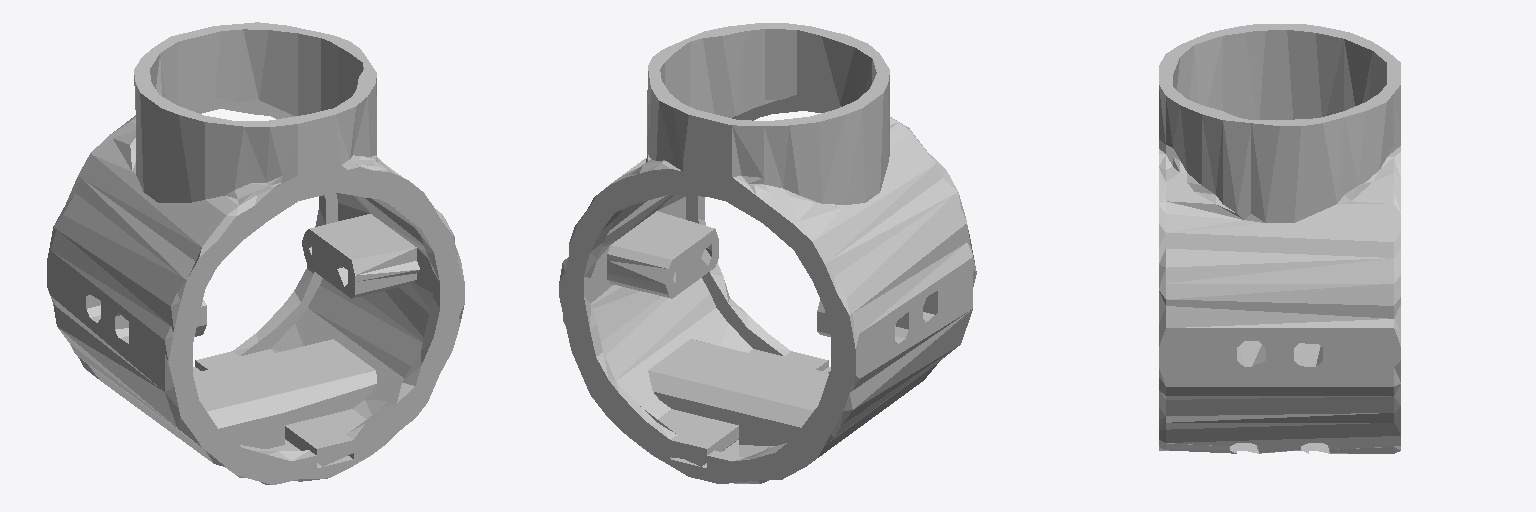
Rendered from wrist_flex.obj.
3 renders of one model, left to right at view 1: azimuth 30°, elevation 25°; view 2: azimuth 150°, elevation 25°; view 3: azimuth 270°, elevation 25°, orthographic.
Size of the model in its own units: 0.048 by 0.056 by 0.034.